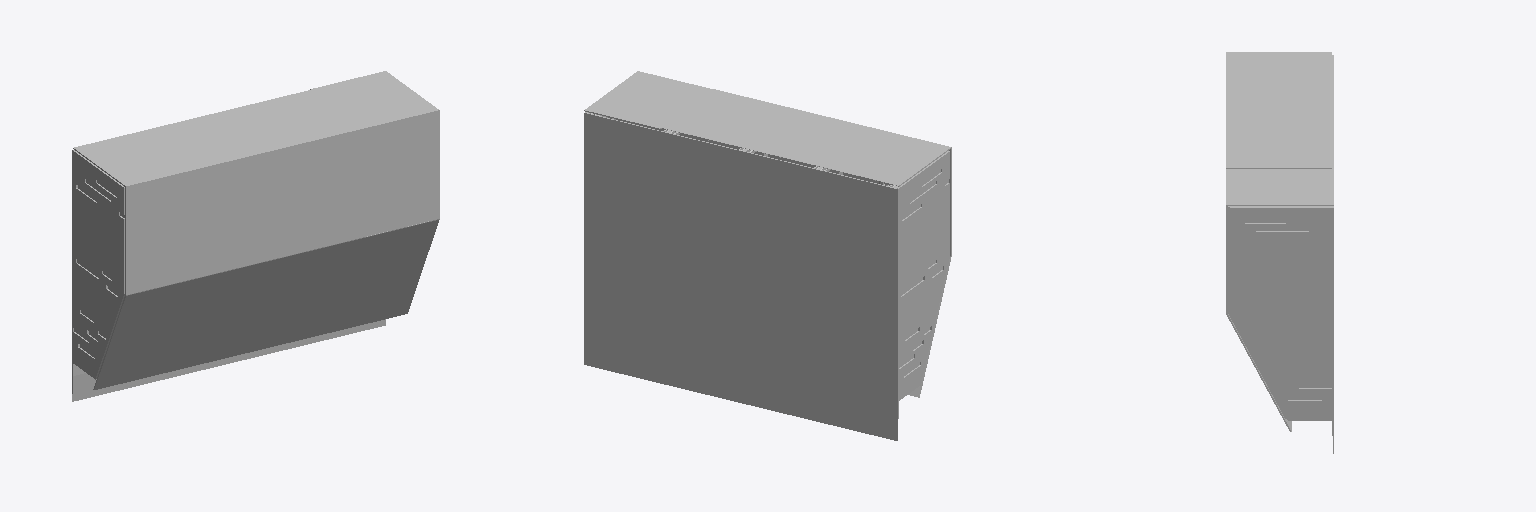
Rendered from house.obj.
3 views of the same model, side by side, from view 1: azimuth 30°, elevation 25°; view 2: azimuth 150°, elevation 25°; view 3: azimuth 270°, elevation 25° (orthographic).
Parts seen in each view (by area): view 1: Group_001, 组件#16_001, Group_032, Group_029; view 2: Group_029, Group_001, Group_032, 组件#16_001; view 3: Group_030, Group_001, 组件#16_001, 组件#1_001, Group_029.
Part boxes in pixels (bbox=[...]): Group_001: bbox=[74, 90, 363, 389]; 组件#16_001: bbox=[310, 71, 439, 331]; Group_032: bbox=[73, 150, 124, 379]; Group_029: bbox=[72, 150, 385, 401]; Group_029: bbox=[584, 112, 898, 440]; Group_001: bbox=[661, 89, 951, 397]; Group_032: bbox=[897, 151, 949, 400]; 组件#16_001: bbox=[584, 71, 712, 129]; Group_030: bbox=[1230, 207, 1331, 420]; Group_001: bbox=[1226, 52, 1331, 168]; 组件#16_001: bbox=[1226, 168, 1333, 431]; 组件#1_001: bbox=[1230, 220, 1331, 399]; Group_029: bbox=[1332, 55, 1333, 453].
Bounding box in the file's own units: 984 × 765 × 293.